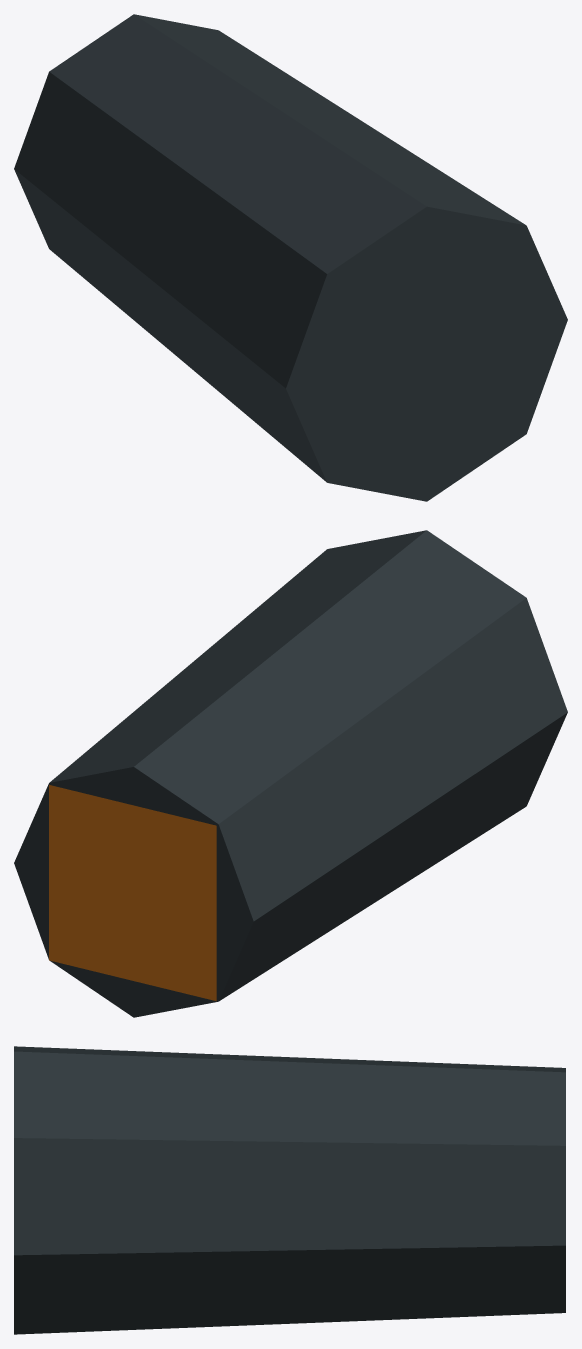
The picture shows the model from 3 angles, top to bottom: view 1: azimuth 30°, elevation 25°; view 2: azimuth 150°, elevation 25°; view 3: azimuth 270°, elevation 25°; orthographic projection. The views are drawn at different scales.
Parts seen in each view (by area): view 1: mount; view 2: mount; view 3: mount.
Boxes of the visible parts, <box> form: mount: <box>14,14,567,501</box>; mount: <box>14,530,567,1017</box>; mount: <box>14,1046,565,1334</box>.
Size of the model in its own units: 5 by 5 by 9.03.
